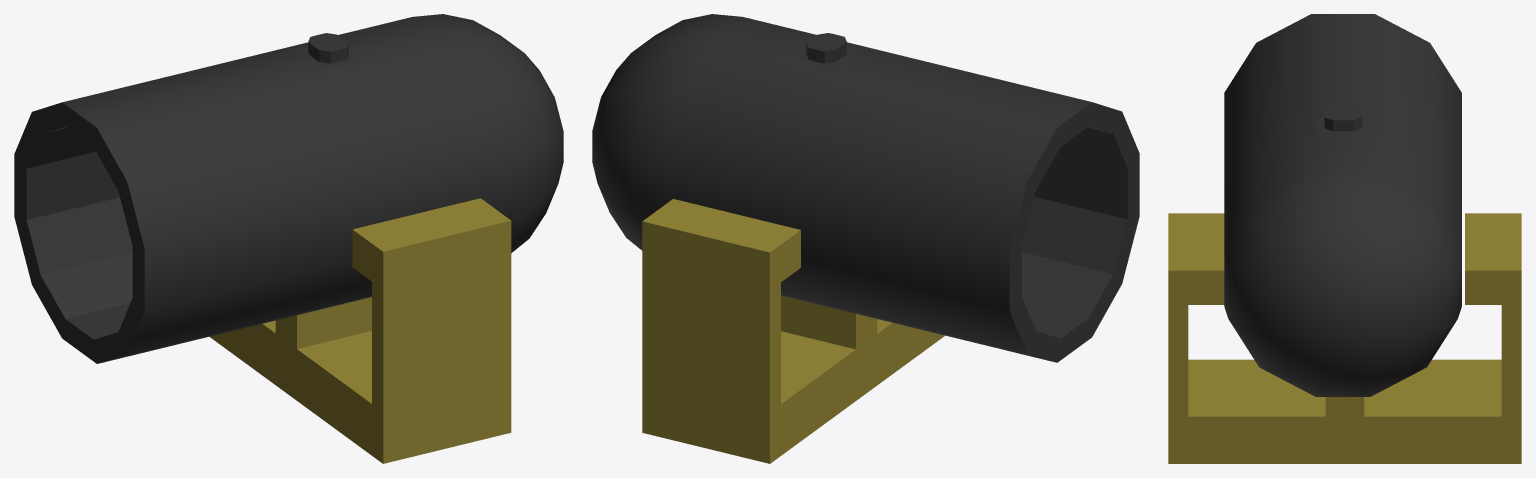
The model's file is cannon_anim.FBX.
The picture shows the model from 3 angles, left to right: view 1: azimuth 30°, elevation 25°; view 2: azimuth 150°, elevation 25°; view 3: azimuth 270°, elevation 25°; orthographic projection. The views are drawn at different scales.
Visible parts, largest first — view 1: cannon, cannon_base; view 2: cannon, cannon_base; view 3: cannon, cannon_base.
Boxes of the visible parts, x1,y1,x2,y2 form: cannon: [14, 14, 563, 363]; cannon_base: [209, 198, 511, 463]; cannon: [592, 14, 1139, 362]; cannon_base: [642, 199, 944, 463]; cannon: [1224, 14, 1461, 396]; cannon_base: [1168, 213, 1521, 463].
Bounding box in the file's own units: 98.17 × 68.58 × 70.52.
